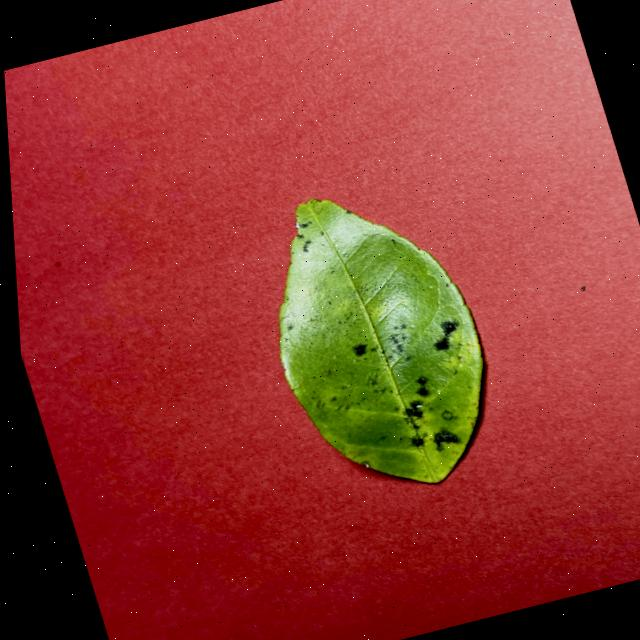sooty_mold: (279, 199, 481, 483)
